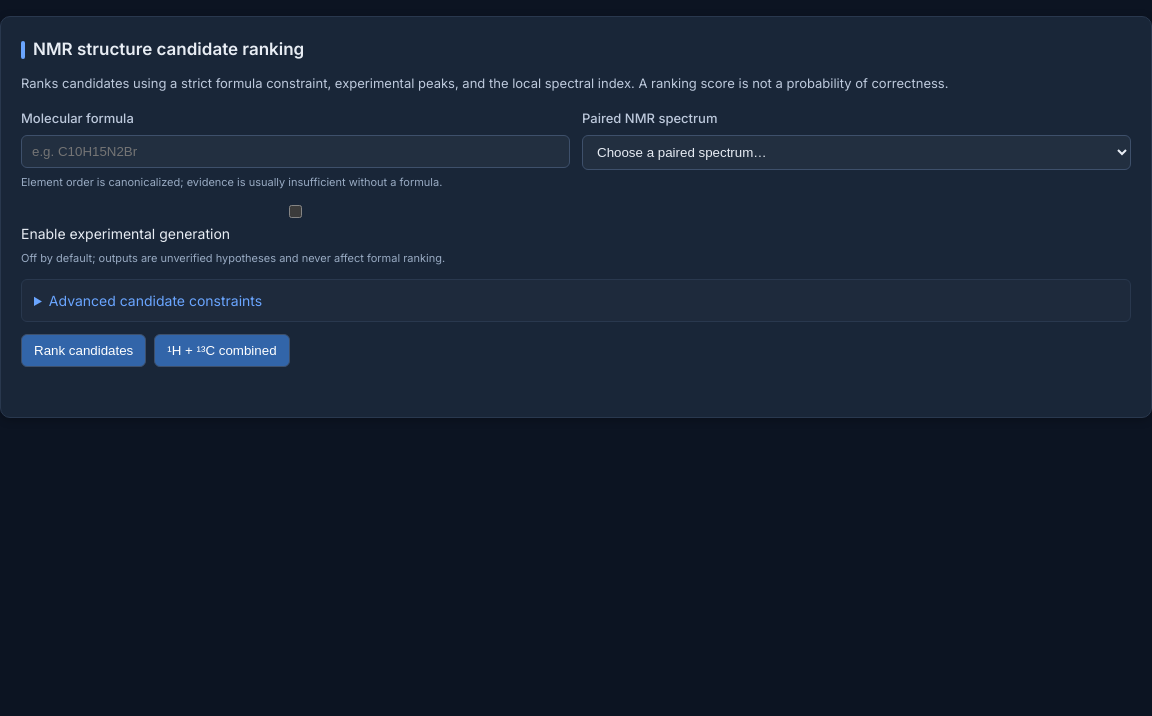
MLPredictionPanel › shows 13C shadow diagnostics without changing candidate order
Click the button "Rank candidates" at [84, 350], box top-left (21, 334), bottom-right (146, 367)
(page scrolled)
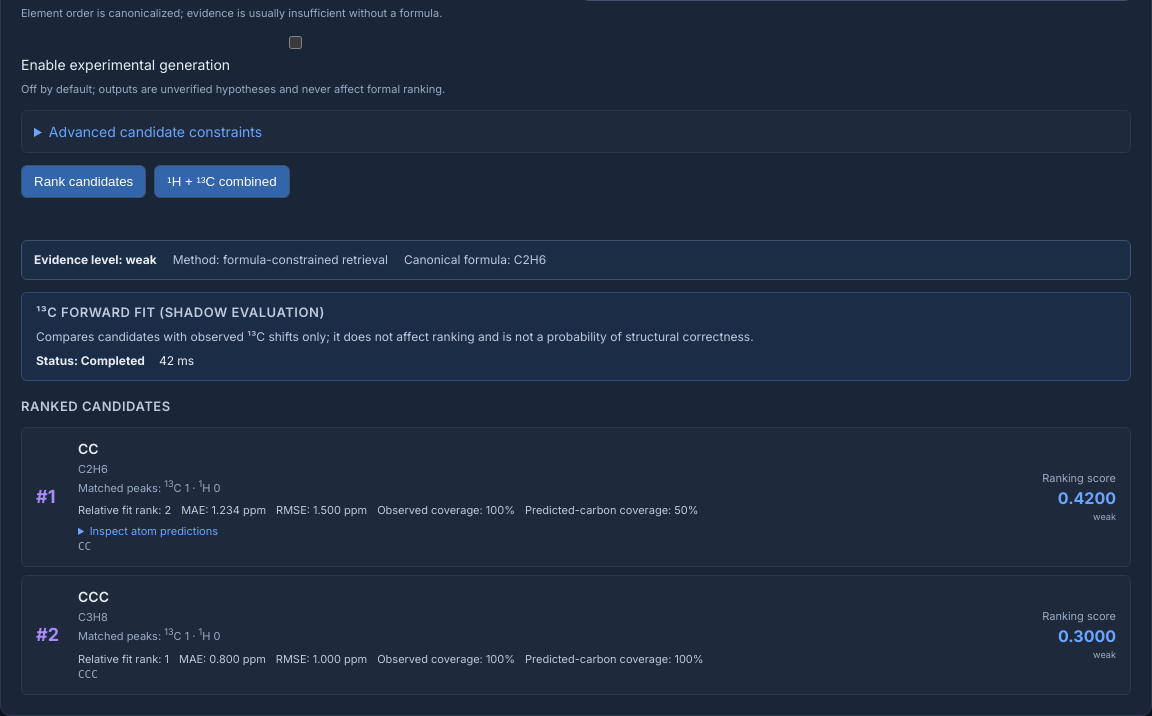
Check: the heading "¹³C forward fit (shadow evaluation)" is shown, box top-left (36, 304), bottom-right (325, 320)
Check: the text "Compares candidates with observed ¹³C shifts only; it does not affect ranking and is not a probability of structural cor" is shown, box top-left (36, 329), bottom-right (754, 344)
Check: the text "#1" is shown, box top-left (36, 486), bottom-right (56, 507)
